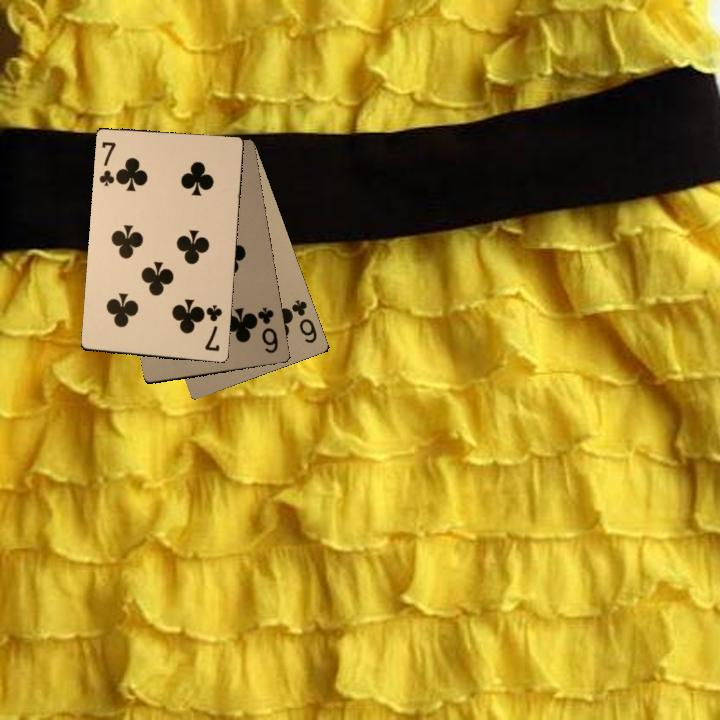6c: (283, 296, 319, 346), (252, 303, 281, 356)
7c: (95, 137, 123, 189), (201, 300, 225, 354)
